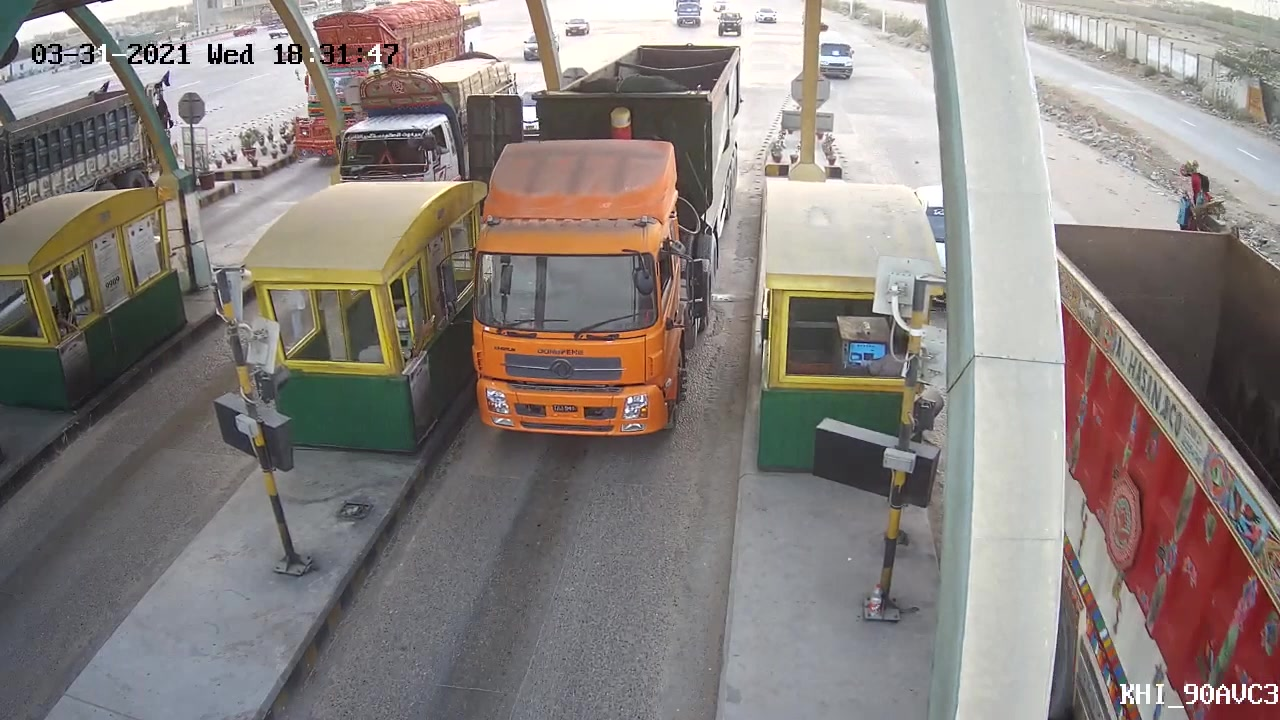F5: (459, 41, 754, 449)
